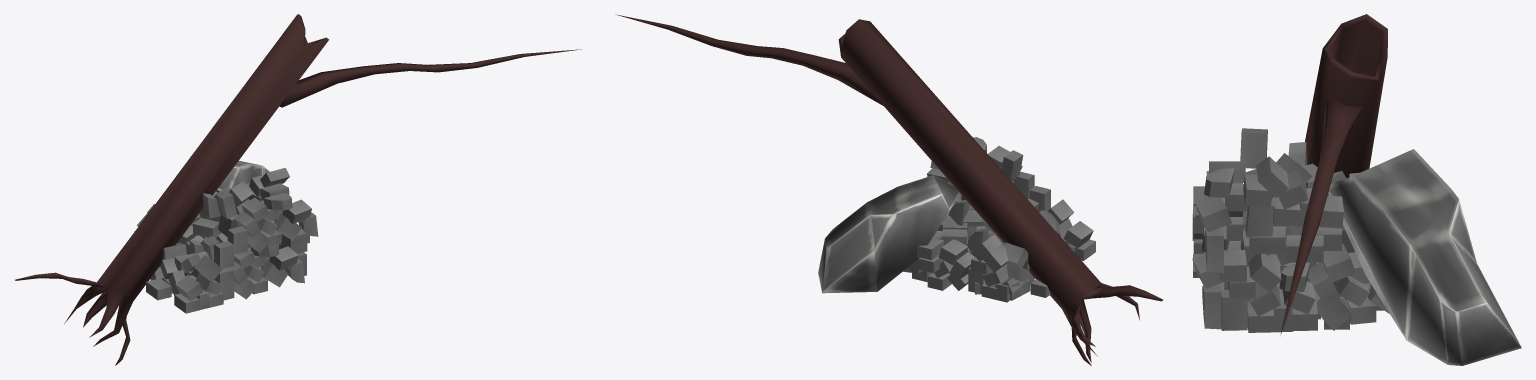
Rendered from SM_ObstacleTrunks_02.fbx.
The picture shows the model from 3 angles, left to right: view 1: azimuth 30°, elevation 25°; view 2: azimuth 150°, elevation 25°; view 3: azimuth 270°, elevation 25°; orthographic projection. The views are drawn at different scales.
Visible parts, largest first — view 1: Obstaculo; view 2: Obstaculo; view 3: Obstaculo.
Part boxes in pixels (<box>): Obstaculo: <box>15,14,581,365</box>; Obstaculo: <box>615,14,1163,365</box>; Obstaculo: <box>1192,14,1521,365</box>.
Size of the model in its own units: 29.01 by 14.78 by 9.63.
